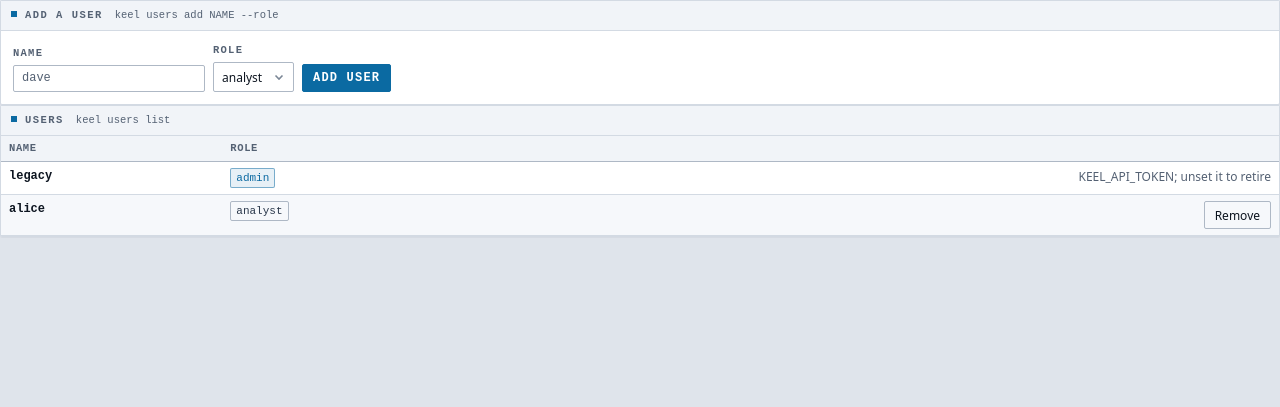
Test case: UsersPanel › shows a new token once, copies it, and forgets it
Expected: the row with test id "users-legacy" is shown, top-left (1, 162), bottom-right (1279, 195)
Type "Dave" into the field with test id "user-name" at (109, 78), box top-left (13, 65), bottom-right (205, 92)
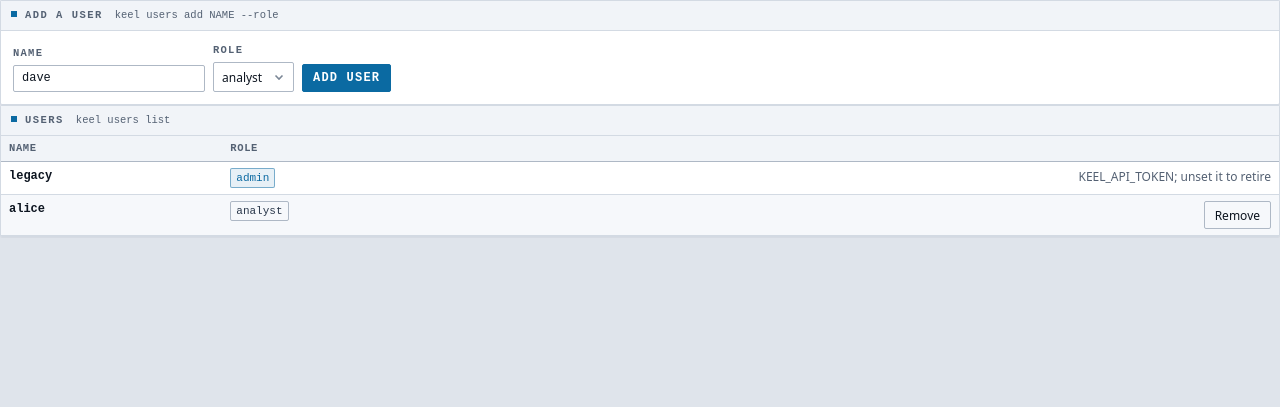
Select "partner" in the dropdown with test id "user-role" at (254, 77), box top-left (213, 62), bottom-right (294, 92)
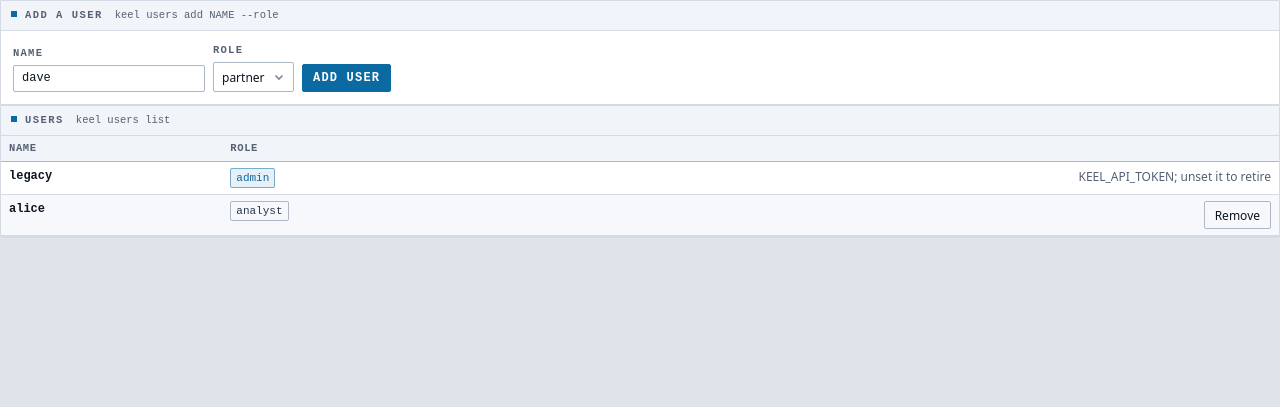
Click the button with test id "user-add" at (347, 78), box top-left (302, 64), bottom-right (391, 92)
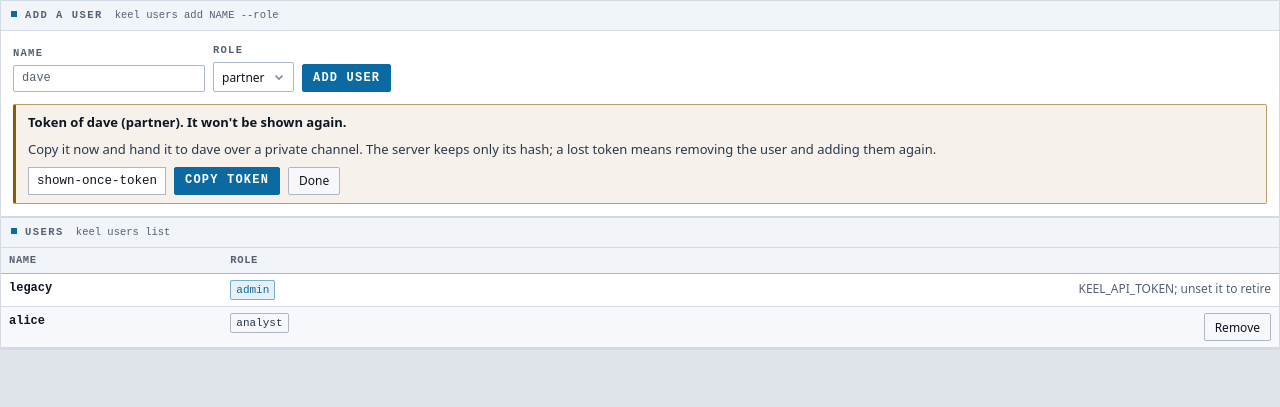
Now the text with test id "new-token-value" reads "shown-once-token", box top-left (37, 174), bottom-right (157, 188)
Now the element with test id "new-token" shows "It won't be shown again.", box top-left (176, 113), bottom-right (346, 131)
Click the button with test id "new-token-copy" at (227, 181), box top-left (174, 167), bottom-right (280, 195)
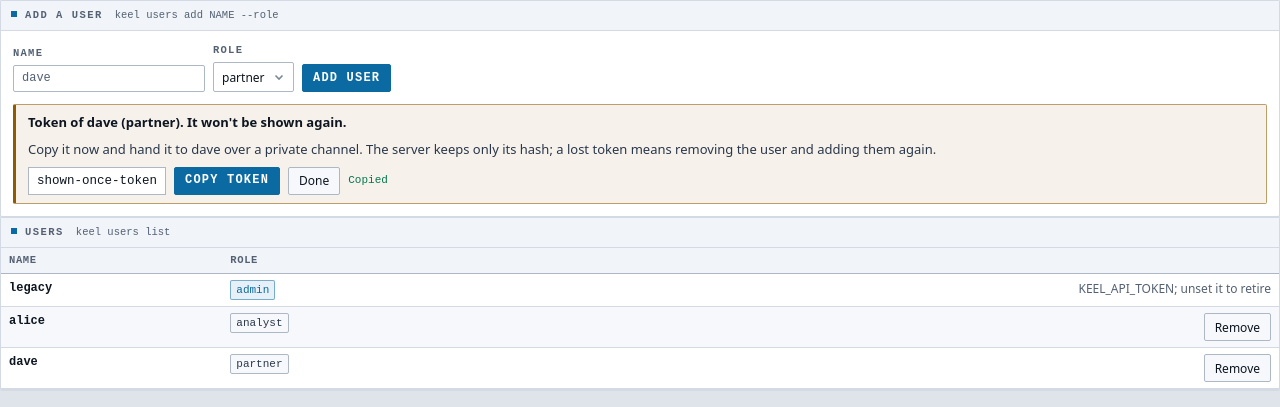
Now the number of rows with test id "users-row" is 2, box top-left (1, 307), bottom-right (1279, 348); top-left (1, 348), bottom-right (1279, 389)
Click the button with test id "new-token-dismiss" at (314, 181), box top-left (288, 167), bottom-right (340, 195)
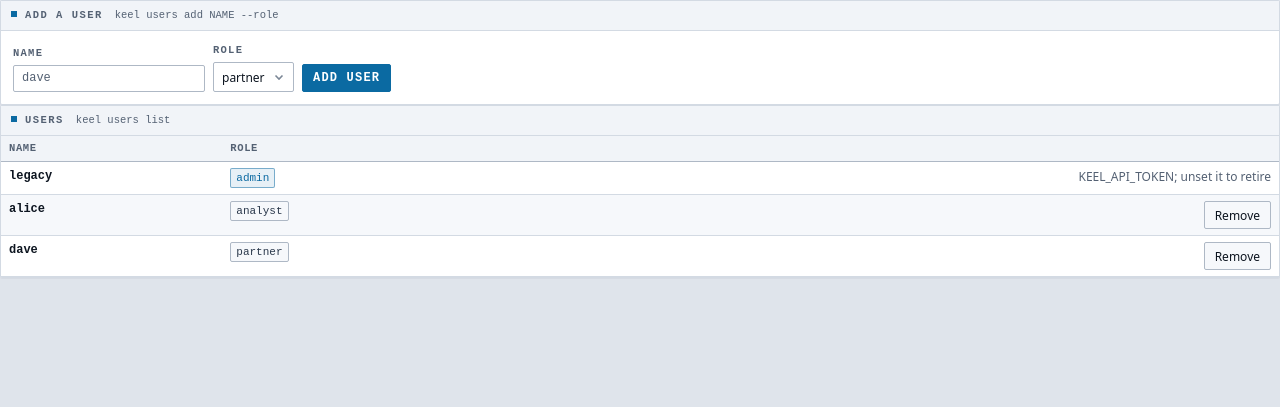
Now the element with test id "new-token" is gone
Now the text "shown-once-token" is gone
